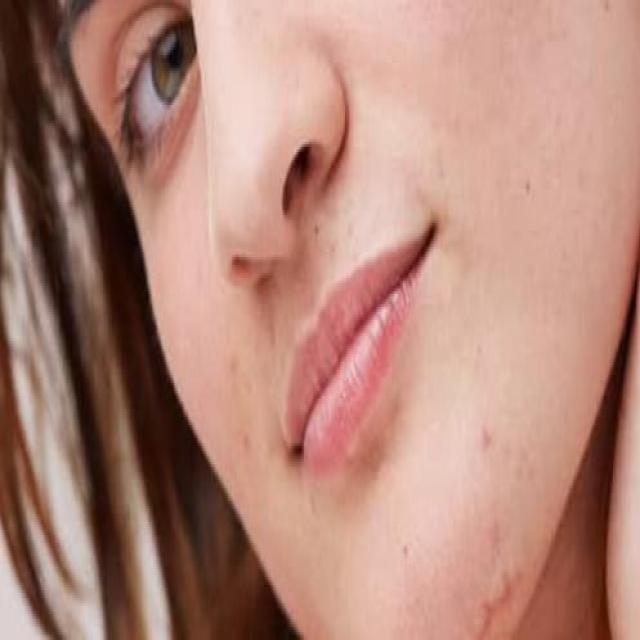blackheads: (478, 556, 510, 630), (479, 414, 495, 454)
